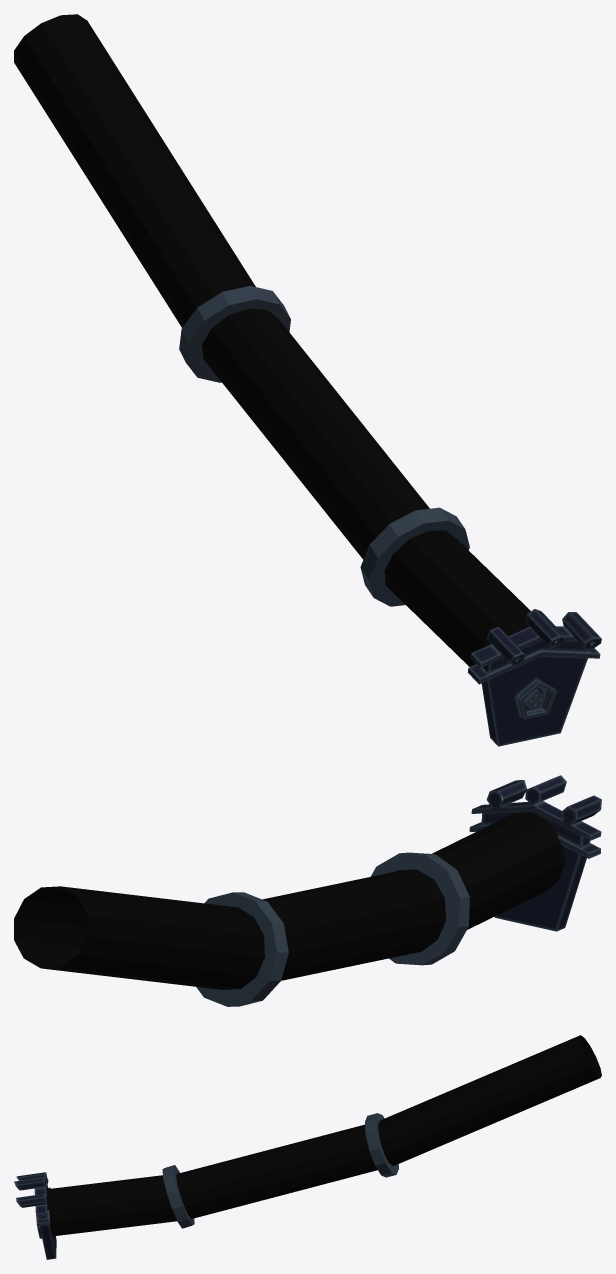
Rendered from Roof_Object7_JP_Tiles.fbx.
3 renders of one model, top to bottom at view 1: azimuth 30°, elevation 25°; view 2: azimuth 150°, elevation 25°; view 3: azimuth 270°, elevation 25°, orthographic. The views are drawn at different scales.
Parts seen in each view (by area): view 1: Roof_Object7_JP_Tiles_LOD0; view 2: Roof_Object7_JP_Tiles_LOD0; view 3: Roof_Object7_JP_Tiles_LOD0.
Boxes of the visible parts, x1,y1,x2,y2 form: Roof_Object7_JP_Tiles_LOD0: (14,14,601,746); Roof_Object7_JP_Tiles_LOD0: (14,775,601,1006); Roof_Object7_JP_Tiles_LOD0: (14,1035,601,1259).
Size of what is drawn, in the model's own units: 101 by 304 by 756.
